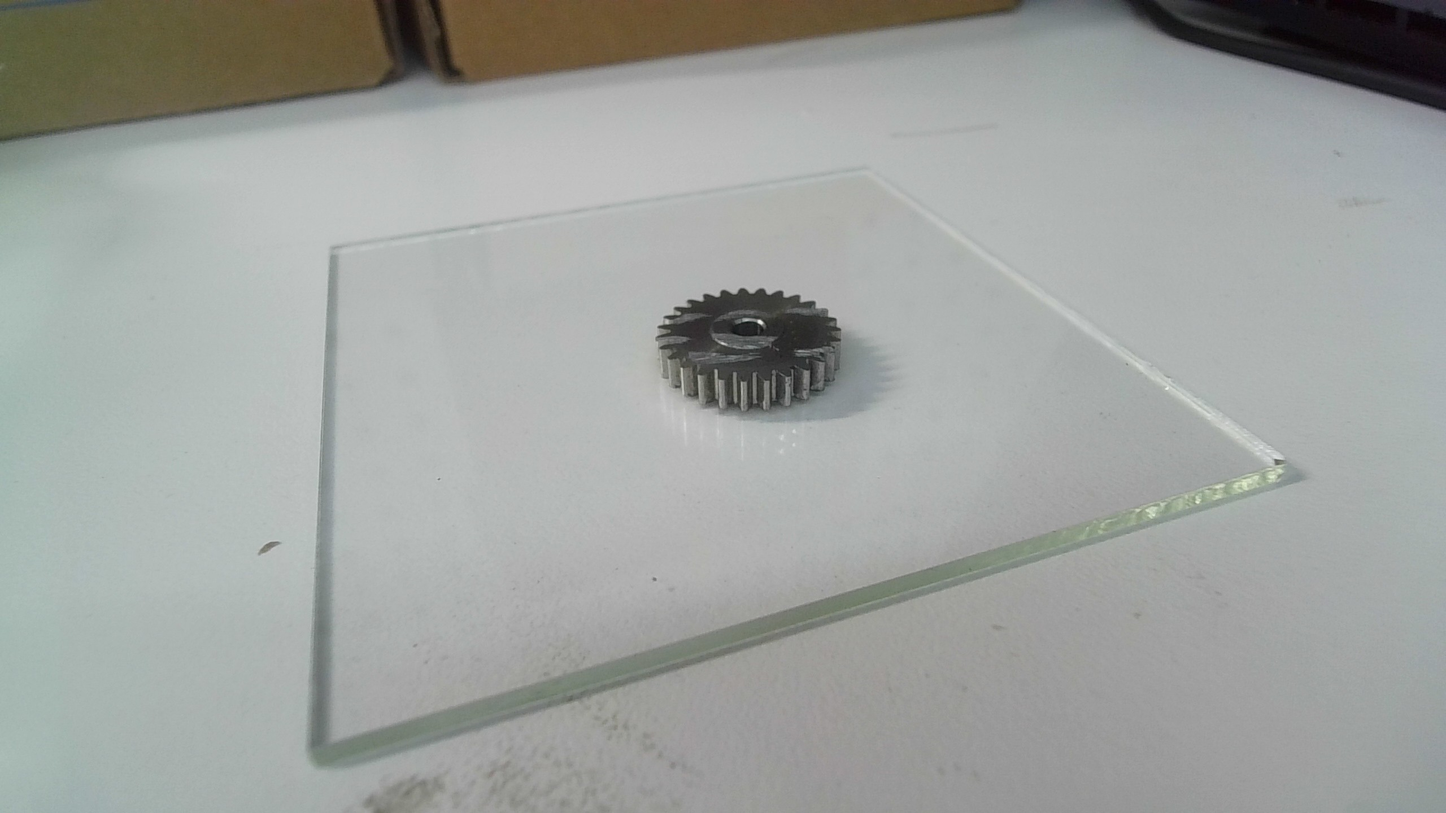gear: (654, 286, 844, 414)
